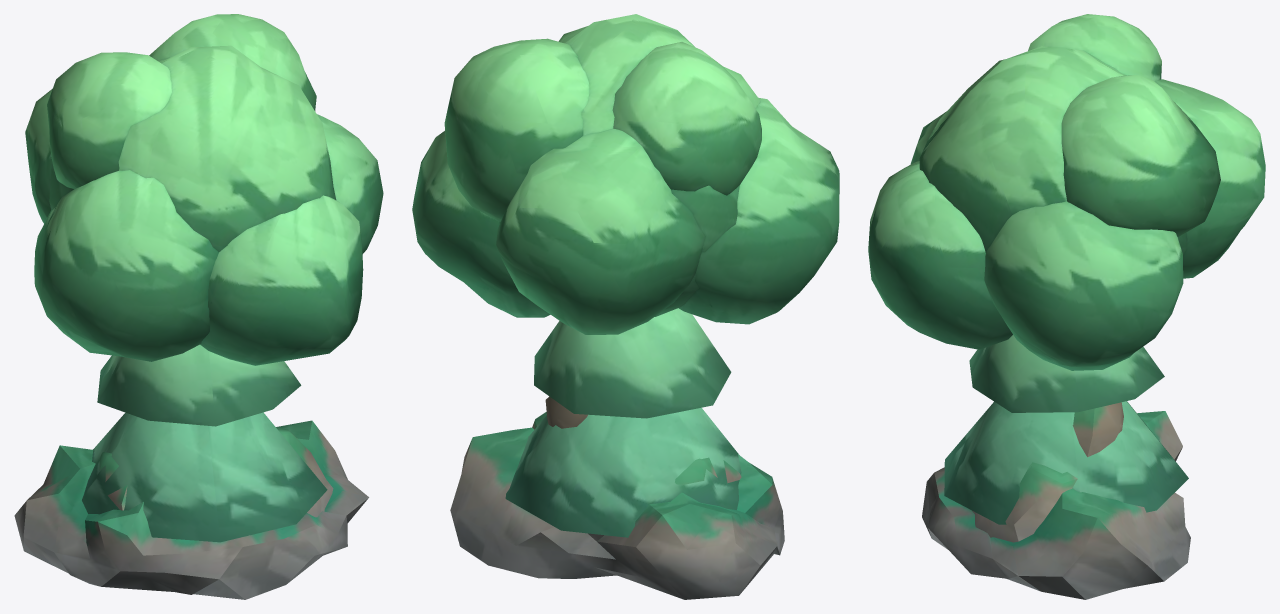
File: verdant_kit.glb
3 views of the same model, side by side, from view 1: azimuth 30°, elevation 25°; view 2: azimuth 150°, elevation 25°; view 3: azimuth 270°, elevation 25° (orthographic). The views are drawn at different scales.
Visible parts, largest first — view 1: tree_broad, tree_conifer, rock_b, rock_a; view 2: tree_broad, tree_conifer, rock_b, rock_a, rock_c; view 3: tree_broad, tree_conifer, rock_b, rock_a, rock_c.
Boxes of the visible parts, bbox=[...] form: tree_broad: bbox=[25, 14, 383, 365]; tree_conifer: bbox=[82, 344, 327, 542]; rock_b: bbox=[14, 420, 368, 599]; rock_a: bbox=[99, 427, 333, 517]; tree_broad: bbox=[412, 14, 839, 334]; tree_conifer: bbox=[505, 308, 741, 537]; rock_b: bbox=[450, 427, 784, 599]; rock_a: bbox=[532, 412, 741, 484]; rock_c: bbox=[545, 396, 587, 428]; tree_broad: bbox=[868, 14, 1265, 370]; tree_conifer: bbox=[944, 335, 1188, 524]; rock_b: bbox=[922, 411, 1190, 599]; rock_a: bbox=[972, 462, 1077, 542]; rock_c: bbox=[1072, 402, 1123, 457].
Bounding box in the file's own units: 3.28 × 4.31 × 3.18.
1 material, 1 textured.
